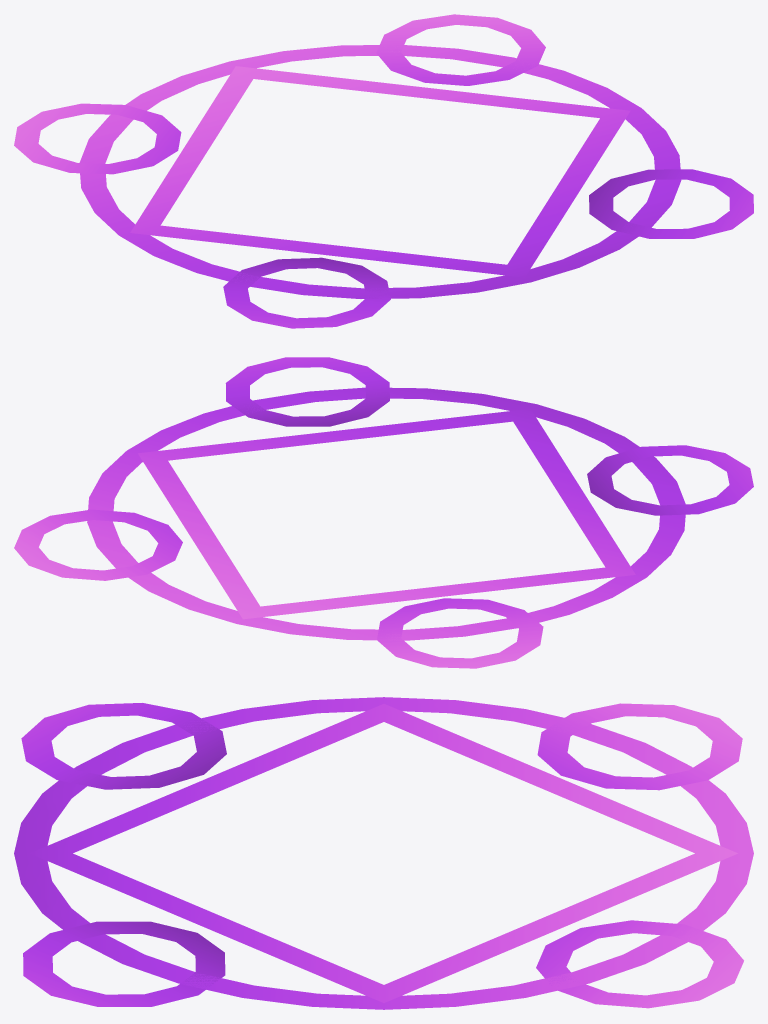
Rendered from undead_floor_sign_2.fbx.
The picture shows the model from 3 angles, top to bottom: view 1: azimuth 30°, elevation 25°; view 2: azimuth 150°, elevation 25°; view 3: azimuth 270°, elevation 25°; orthographic projection. The views are drawn at different scales.
Visible parts, largest first — view 1: undead_floor_sign_2; view 2: undead_floor_sign_2; view 3: undead_floor_sign_2.
Boxes of the visible parts, x1,y1,x2,y2 form: undead_floor_sign_2: (14,14,753,328); undead_floor_sign_2: (14,357,753,668); undead_floor_sign_2: (14,697,753,1009).
Size of the model in its own units: 4.46 by 0.000324 by 4.46.
